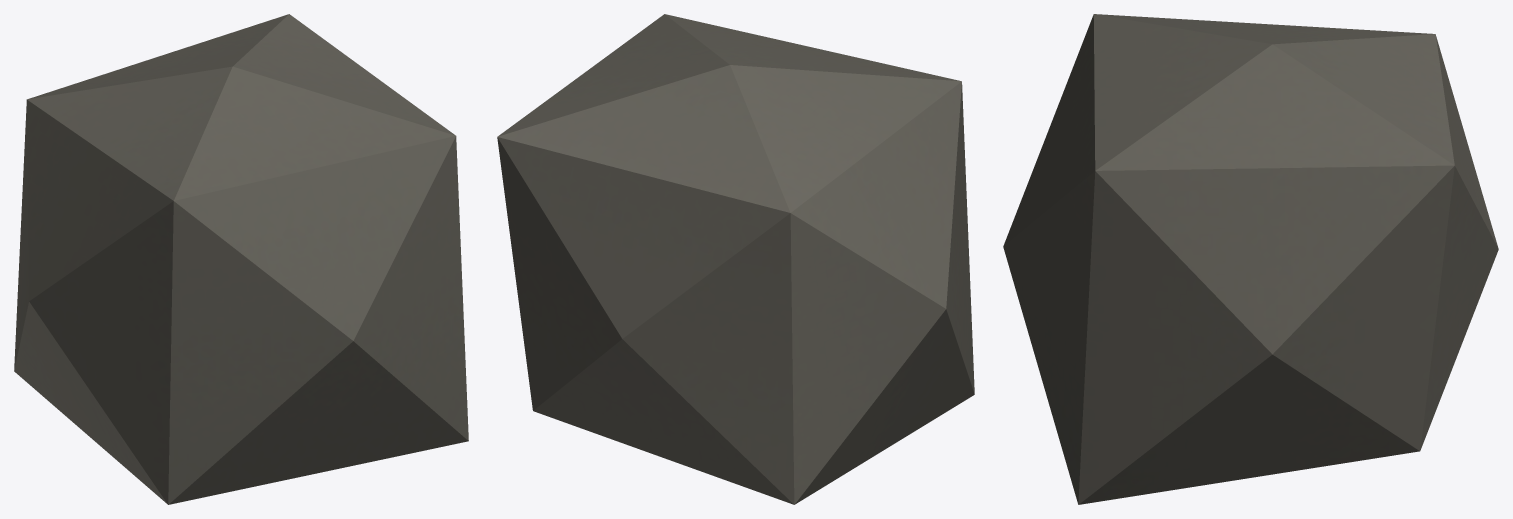
Rendered from Rock_Single_2C.fbx.
3 views of the same model, side by side, from view 1: azimuth 30°, elevation 25°; view 2: azimuth 150°, elevation 25°; view 3: azimuth 270°, elevation 25° (orthographic). The views are drawn at different scales.
Parts seen in each view (by area): view 1: pCube22; view 2: pCube22; view 3: pCube22.
Part boxes in pixels (x1,y1,x2,y2): pCube22: [14, 14, 468, 504]; pCube22: [497, 14, 974, 504]; pCube22: [1003, 14, 1498, 504].
Bounding box in the file's own units: 112 × 100 × 110.
Materials: 1 (1 with a texture image).
